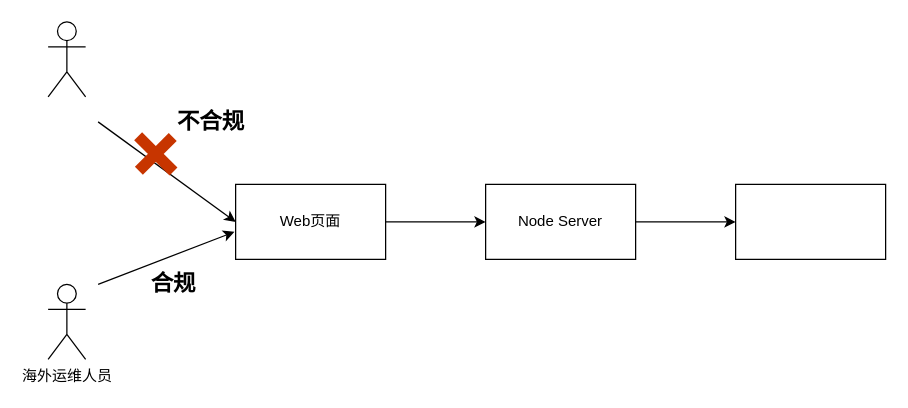
Image size: 908x408. Some labels were removed from this diagram. Each missing label, with the centre of its shape:
File Server: (x=810, y=221)
国内运维人员: (x=66, y=59)
